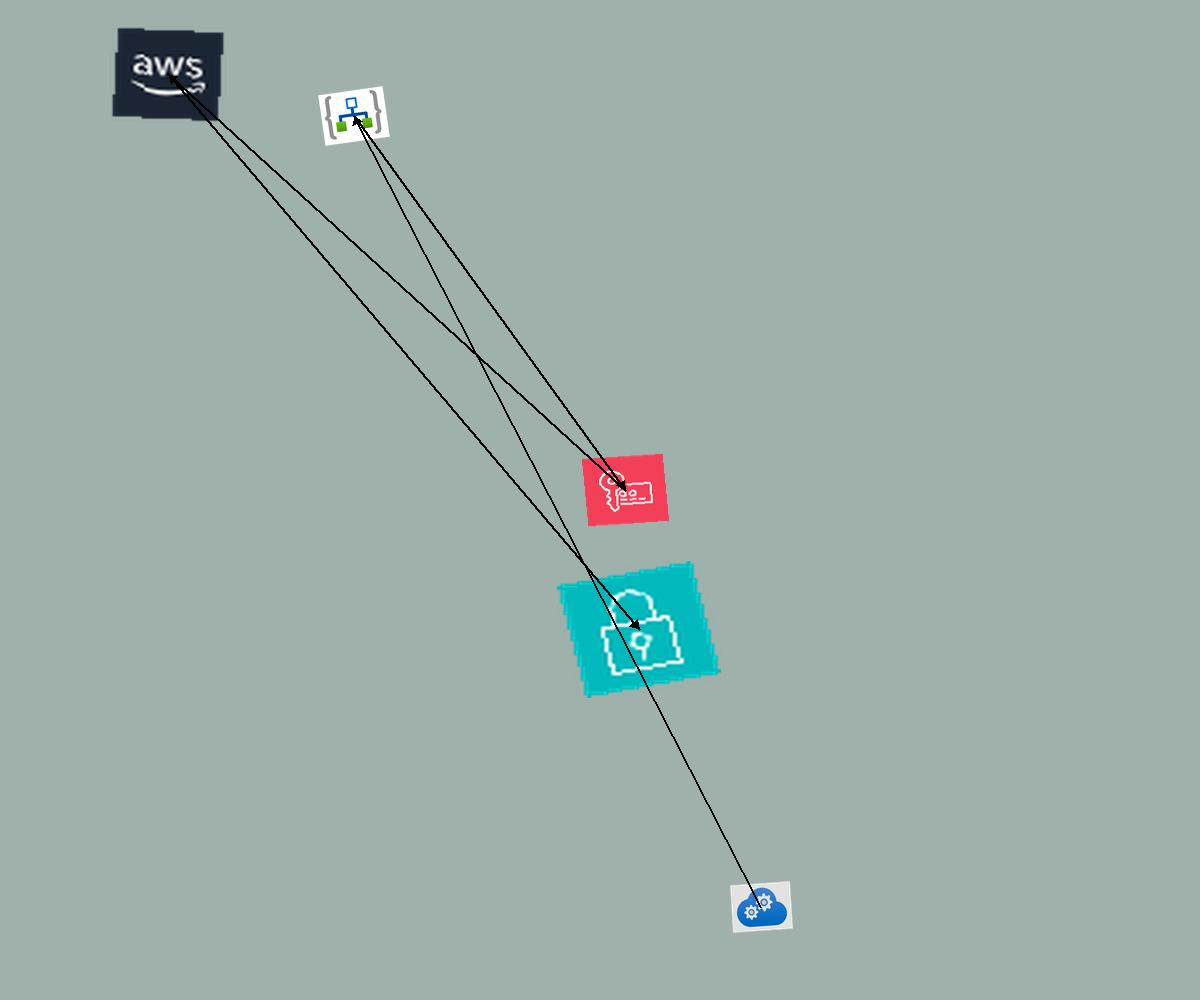AWS-Cloud-logo: (110, 26, 226, 123)
AWS-Key-Management-Service: (581, 453, 670, 527)
AWS-Private-subnet: (557, 561, 721, 698)
Azure_cloud_services: (730, 881, 793, 933)
Azure_integration-204-Logic-Apps: (318, 86, 390, 146)
